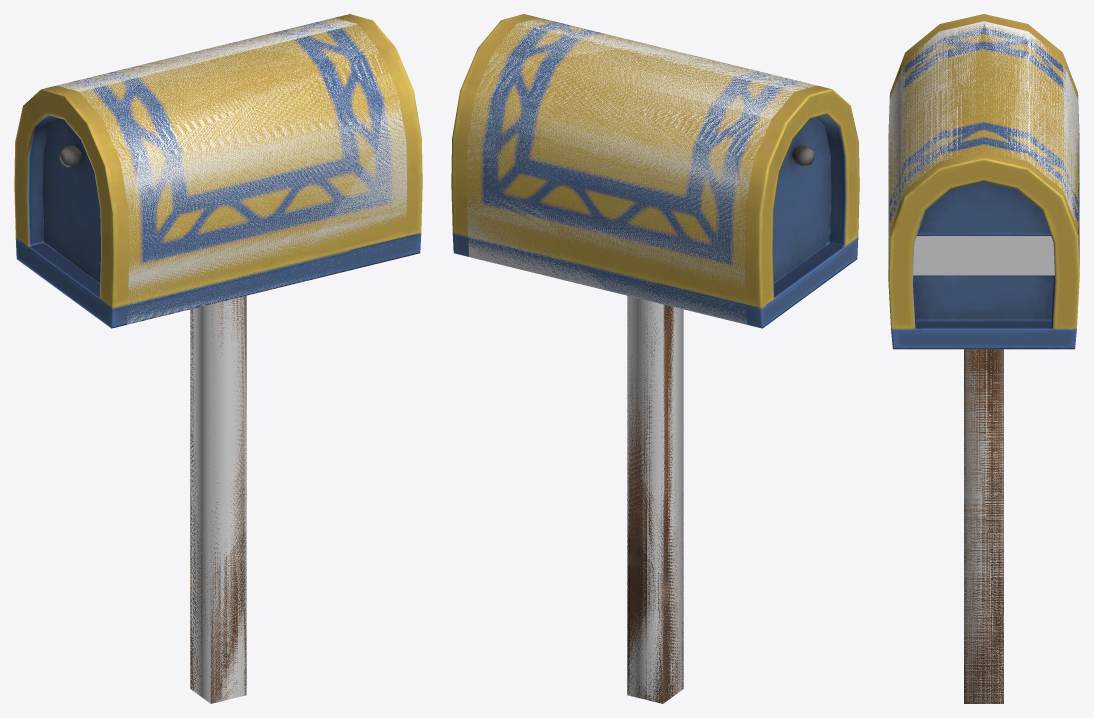
Rendered from objects_un_postbox01.gltf.
3 renders of one model, left to right at view 1: azimuth 30°, elevation 25°; view 2: azimuth 150°, elevation 25°; view 3: azimuth 270°, elevation 25°, orthographic. The views are drawn at different scales.
Visible parts, largest first — view 1: um_objects_un_postbox01_model_objects_un_postbox01_modelShap (×2); view 2: um_objects_un_postbox01_model_objects_un_postbox01_modelShap (×2); view 3: um_objects_un_postbox01_model_objects_un_postbox01_modelShap (×2).
Part boxes in pixels (left/top/right/bottom): um_objects_un_postbox01_model_objects_un_postbox01_modelShap (×2): left=14, top=14, right=422, bottom=703; um_objects_un_postbox01_model_objects_un_postbox01_modelShap (×2): left=451, top=14, right=859, bottom=703; um_objects_un_postbox01_model_objects_un_postbox01_modelShap (×2): left=888, top=14, right=1079, bottom=703.
Bounding box in the file's own units: 0.6176 × 1.2 × 0.342.
2 materials, 1 textured.
